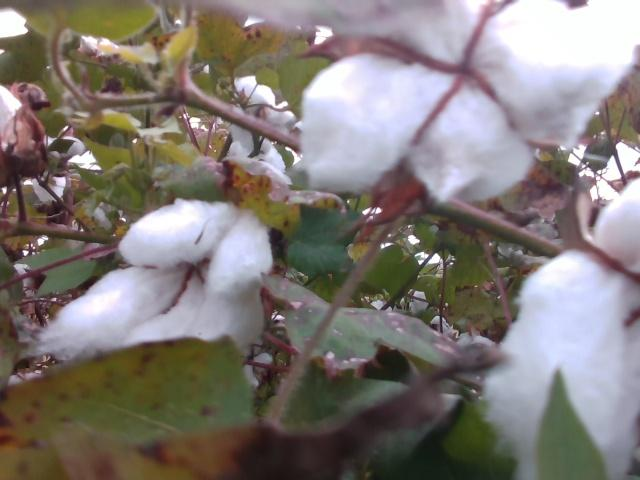cotton_ready: (301, 0, 640, 202), (484, 178, 640, 480), (38, 198, 272, 363), (230, 74, 295, 155), (33, 139, 84, 200), (227, 143, 286, 172), (0, 85, 22, 155)
